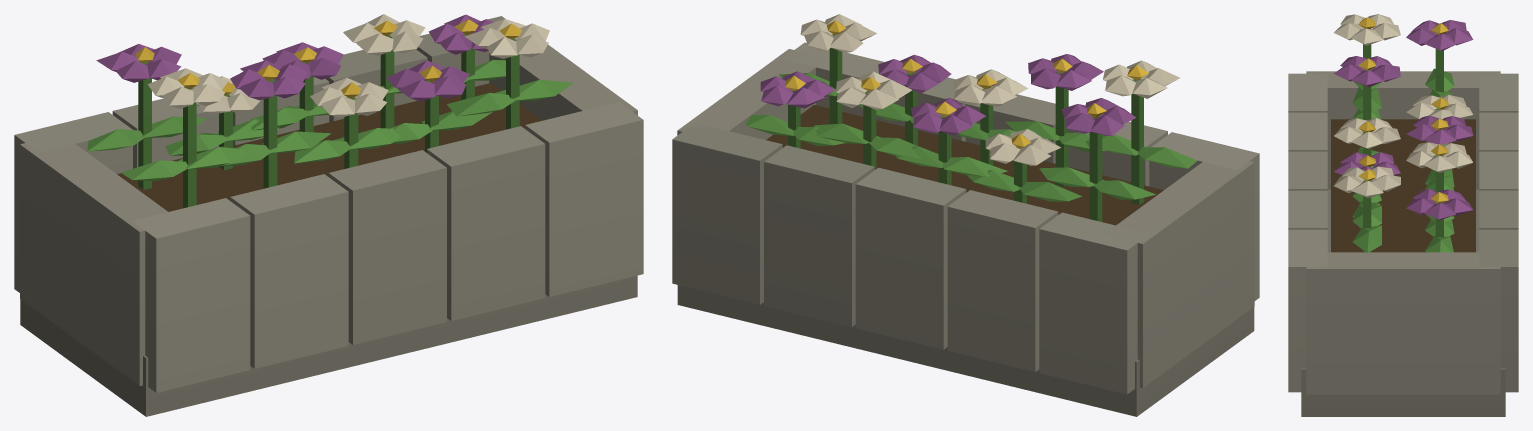
The model's file is town_planter_b.glb.
The picture shows the model from 3 angles, left to right: view 1: azimuth 30°, elevation 25°; view 2: azimuth 150°, elevation 25°; view 3: azimuth 270°, elevation 25°; orthographic projection. The views are drawn at different scales.
Parts seen in each view (by area): view 1: town_planter_b; view 2: town_planter_b; view 3: town_planter_b.
Boxes of the visible parts, x1,y1,x2,y2 form: town_planter_b: [14, 14, 643, 416]; town_planter_b: [672, 14, 1259, 416]; town_planter_b: [1288, 14, 1518, 416].
Size of the model in its own units: 1.42 by 0.7996 by 0.7.
